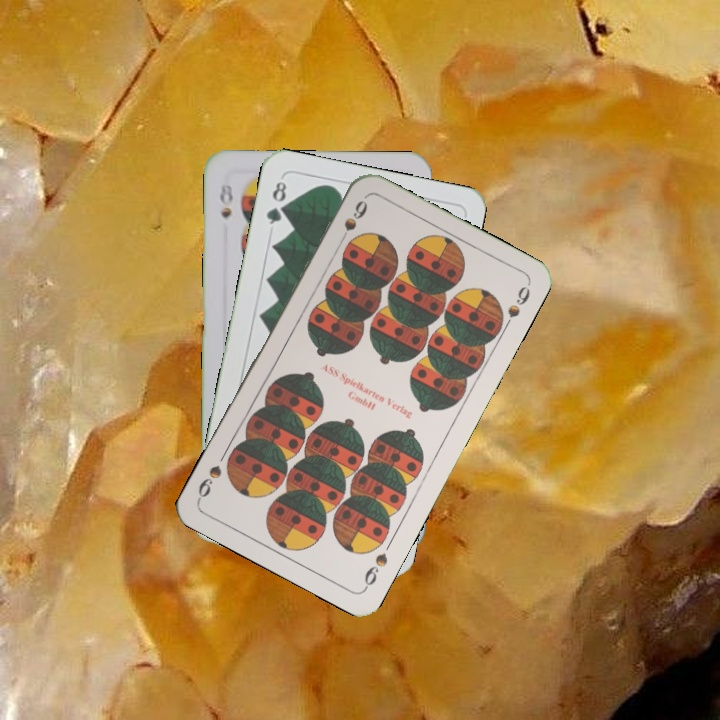G8: (262, 177, 289, 227)
S8: (216, 180, 235, 222)
S9: (334, 196, 371, 249), (360, 548, 390, 592)
